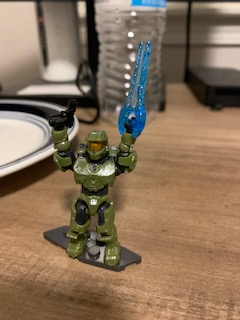chief: (50, 115, 139, 267)
pistol: (49, 100, 78, 131)
spartan: (48, 113, 137, 265)
up: (48, 115, 140, 198)
